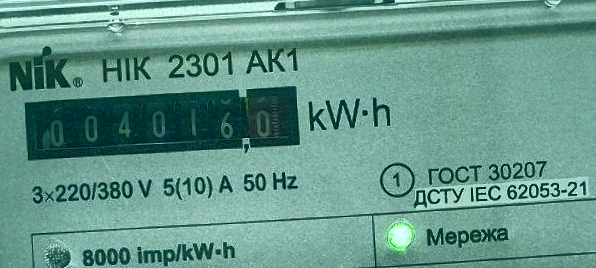0: (147, 106, 169, 142), (45, 115, 67, 149), (80, 111, 100, 146), (251, 106, 272, 139)
1: (185, 104, 201, 138)
4: (114, 106, 133, 141)
6: (215, 107, 235, 140)
screen: (16, 79, 308, 168)
